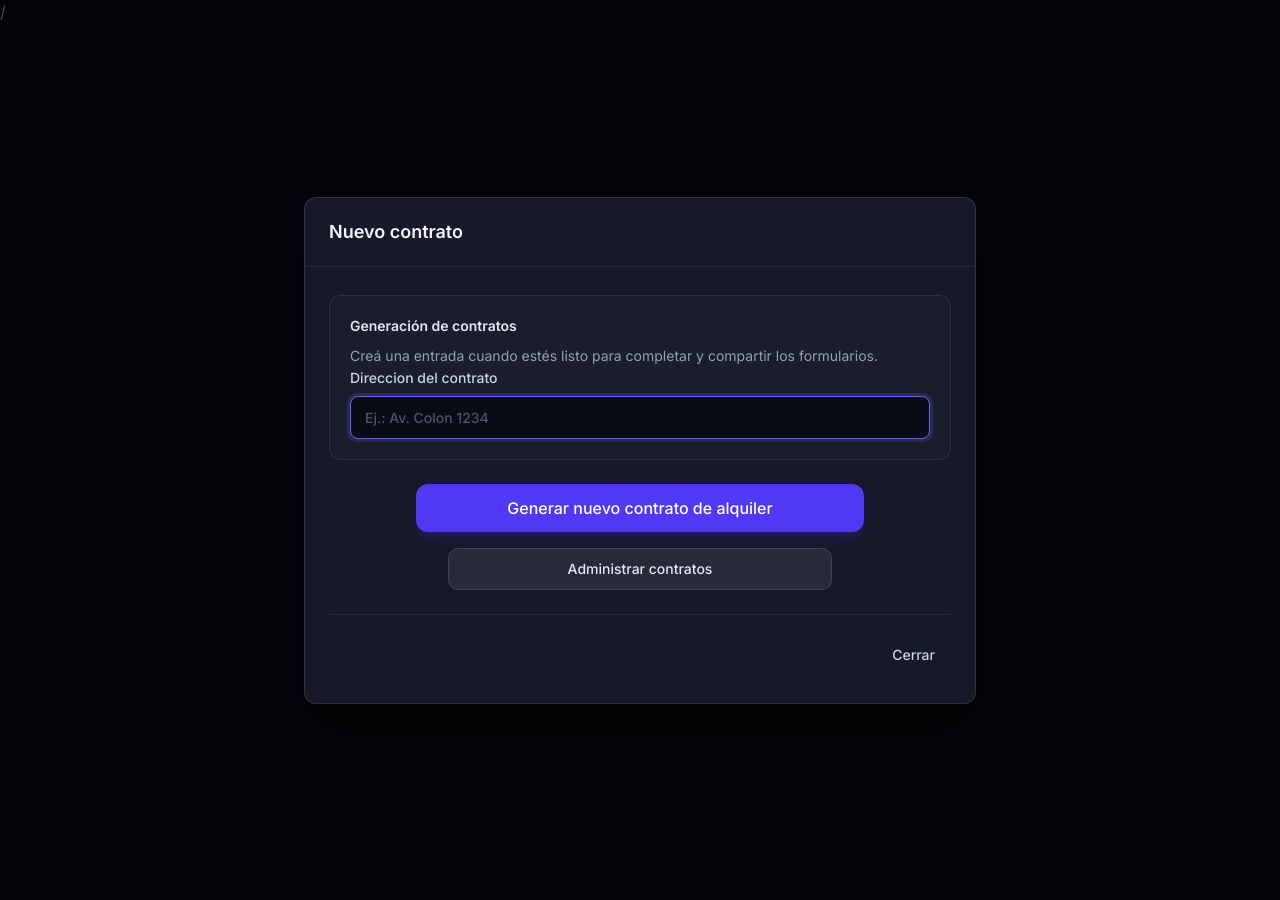
Scenario: SPEC-12 contract generation actions › opens contract administration before an entry is generated
This screenshot has width=1280, height=900.
Click the button "Administrar contratos". click: (640, 568)
box: [448,548,832,590]
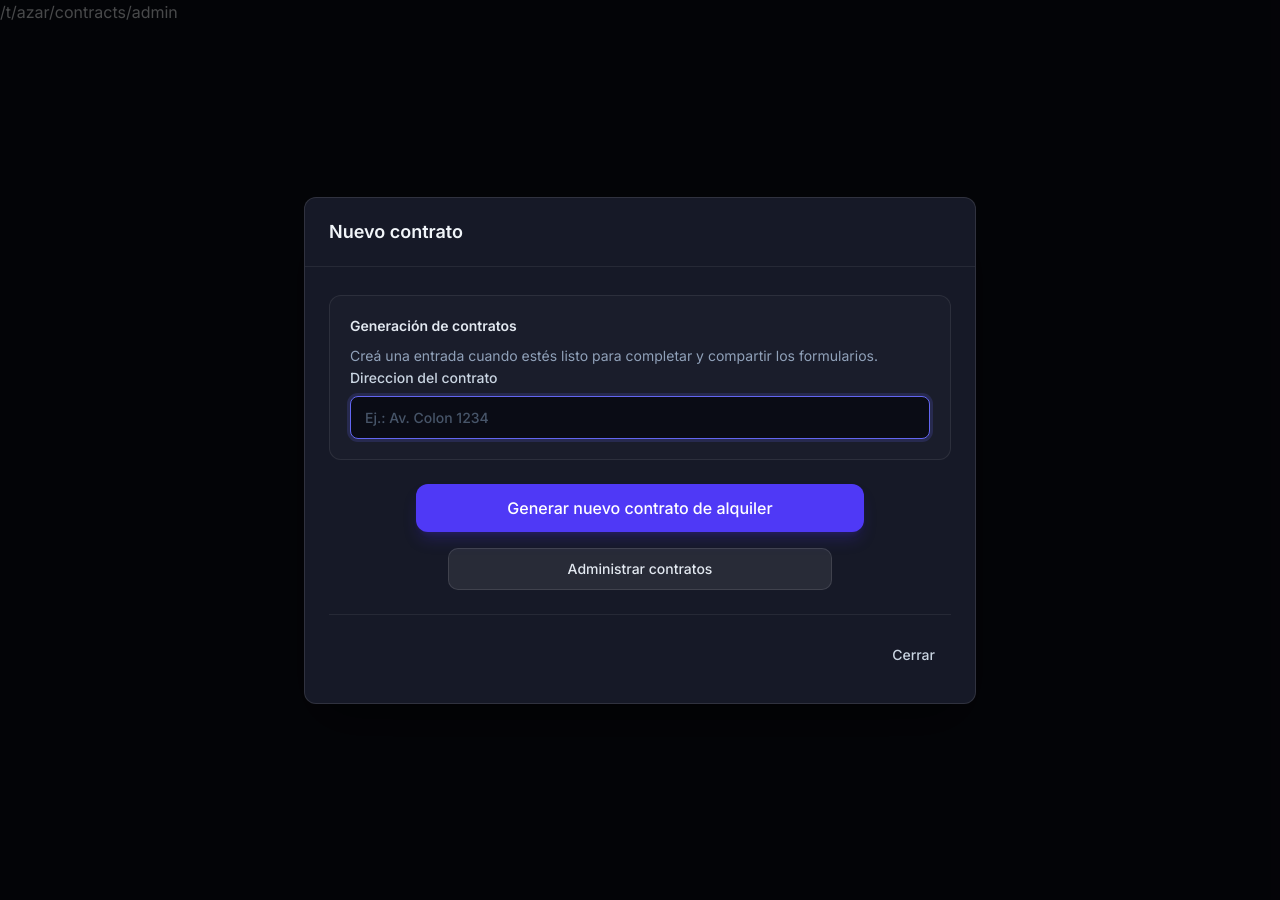
Expected: the text with test id "current-path" reads "/t/azar/contracts/admin", [0,2,178,22]
